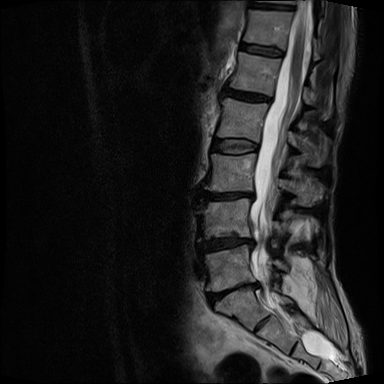Degenerative Disc Disease (DDD): (203, 277, 267, 311), (195, 229, 261, 258), (217, 84, 278, 108), (246, 1, 298, 13)
Lumbar Disc Bulge (LDB): (200, 274, 270, 315), (191, 229, 263, 259), (200, 185, 264, 207)
Normal IVD: (205, 135, 262, 157), (235, 40, 288, 61)
Spinal Stenosis (SS): (246, 274, 263, 296), (243, 187, 262, 206), (243, 233, 258, 255)
Spondylolisthesis: (196, 262, 280, 331)
